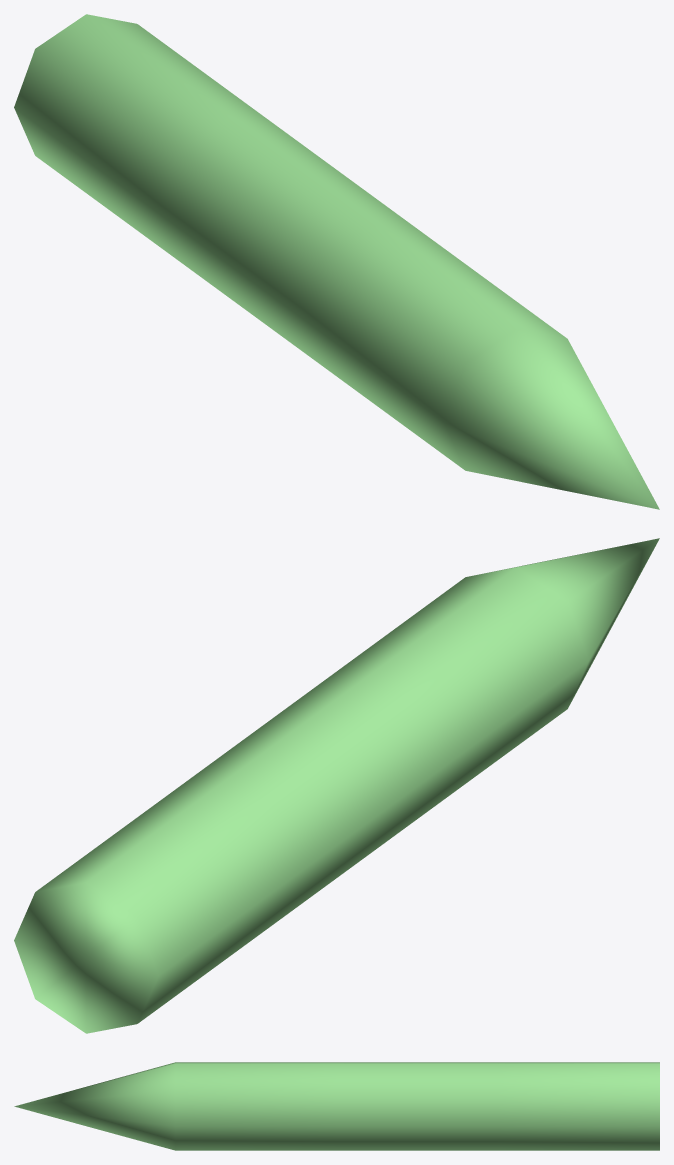
File: bullet (1).fbx
3 renders of one model, top to bottom at view 1: azimuth 30°, elevation 25°; view 2: azimuth 150°, elevation 25°; view 3: azimuth 270°, elevation 25°, orthographic. The views are drawn at different scales.
Parts seen in each view (by area): view 1: pCylinder1; view 2: pCylinder1; view 3: pCylinder1.
Part boxes in pixels (<box>): pCylinder1: <box>14,14,659,509</box>; pCylinder1: <box>14,538,659,1033</box>; pCylinder1: <box>14,1062,659,1150</box>.
Bounding box in the file's own units: 1.16 × 1.16 × 8.
